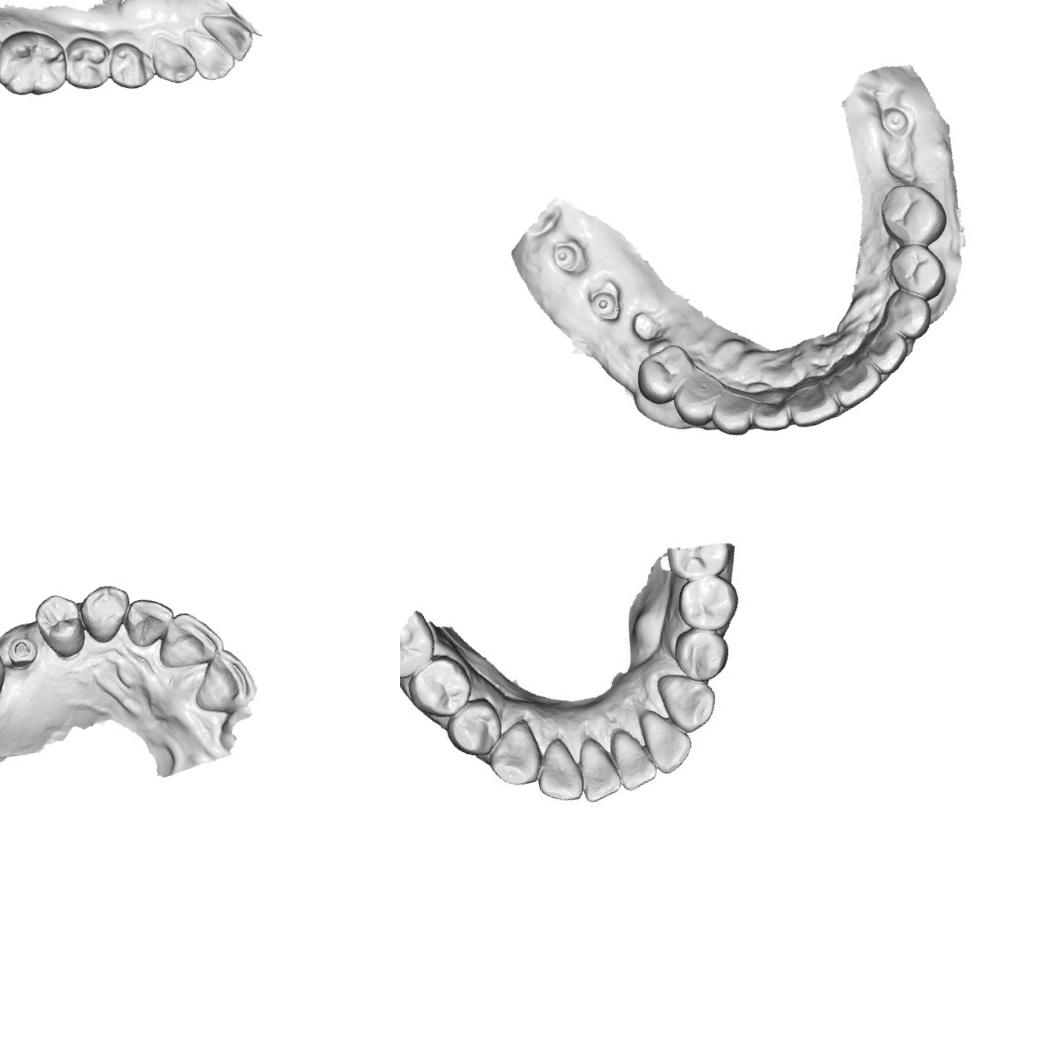canine: (72, 577, 139, 648), (656, 664, 722, 736), (875, 280, 938, 347), (482, 724, 544, 792), (702, 383, 762, 446), (144, 26, 200, 90)
implant: (0, 622, 48, 683), (872, 99, 916, 145), (546, 233, 586, 276), (583, 282, 623, 324)
incisor: (181, 641, 263, 720), (146, 602, 230, 679), (822, 348, 889, 414), (778, 371, 845, 432), (198, 3, 258, 70), (571, 736, 627, 807), (118, 588, 180, 652), (532, 738, 590, 806), (637, 704, 695, 771), (182, 18, 238, 86), (606, 718, 656, 787), (862, 321, 914, 378), (744, 382, 796, 437)
molar: (0, 19, 75, 106)
premolar: (872, 172, 955, 253), (626, 336, 707, 412), (880, 233, 956, 309), (28, 585, 92, 665), (663, 364, 733, 434), (409, 655, 476, 723), (53, 27, 117, 97), (676, 571, 740, 633), (100, 32, 160, 96), (671, 624, 732, 686), (446, 699, 506, 759)
